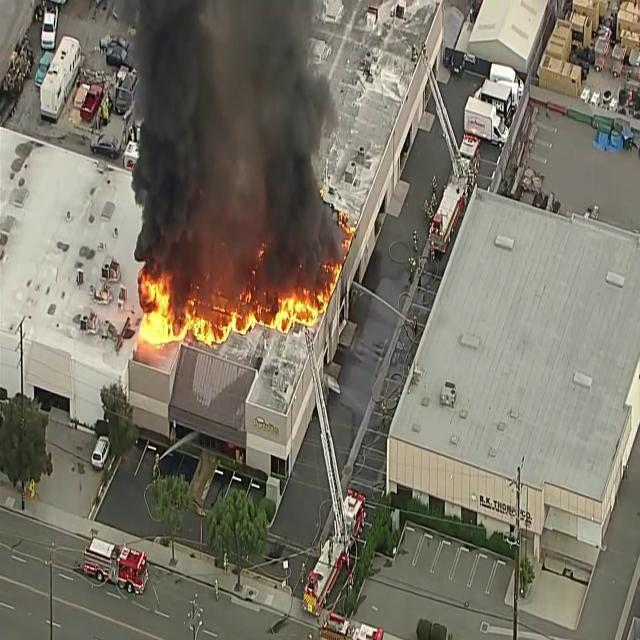Fire: (263, 283, 323, 357), (135, 288, 180, 345)
Smoke: (141, 0, 199, 282), (265, 31, 328, 254)
